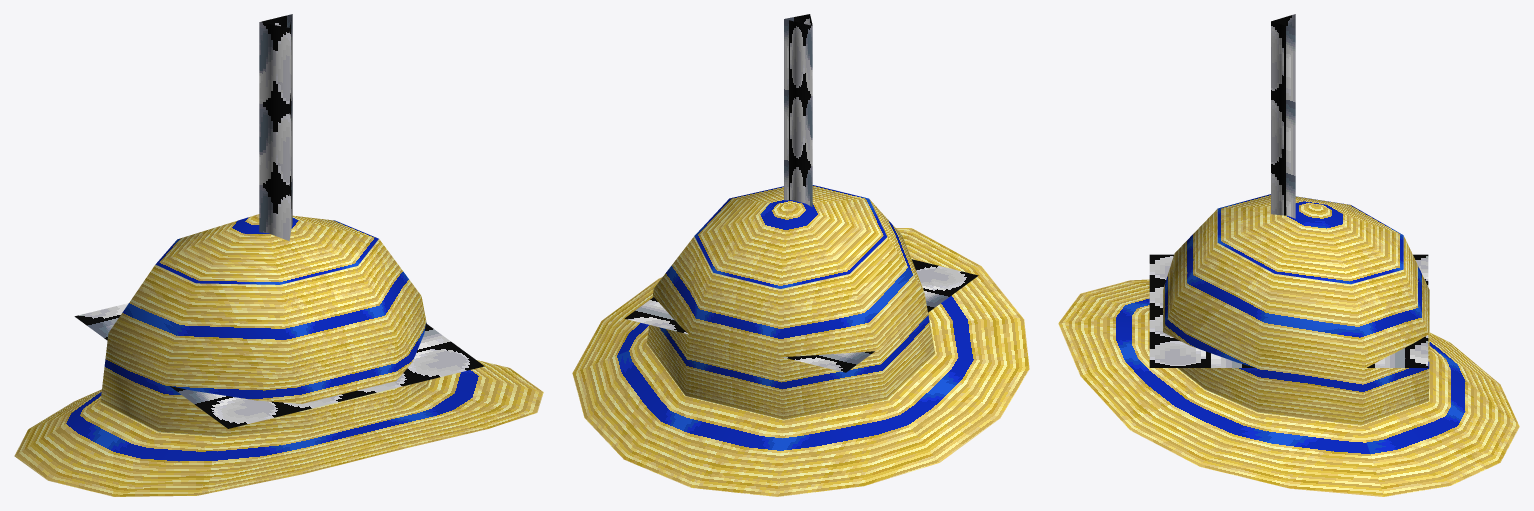
Rendered from 2892head027_c.gltf.
3 renders of one model, left to right at view 1: azimuth 30°, elevation 25°; view 2: azimuth 150°, elevation 25°; view 3: azimuth 270°, elevation 25°, orthographic. The views are drawn at different scales.
Parts seen in each view (by area): view 1: 2892head027_c; view 2: 2892head027_c; view 3: 2892head027_c.
Boxes of the visible parts, x1,y1,x2,y2 form: 2892head027_c: (14, 14, 543, 496); 2892head027_c: (572, 14, 1029, 496); 2892head027_c: (1058, 14, 1519, 496).
Bounding box in the file's own units: 0.832 × 0.7712 × 0.7959.
2 materials, 2 textured.
